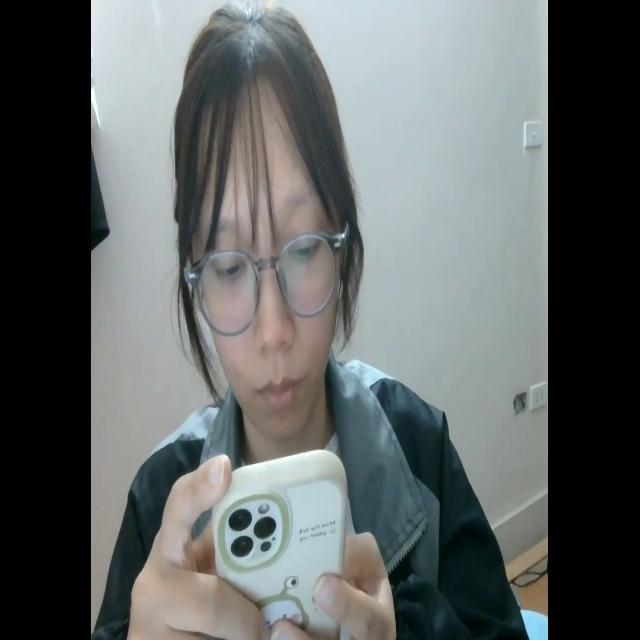phone: (212, 436, 351, 640)
student: (102, 2, 518, 640)
